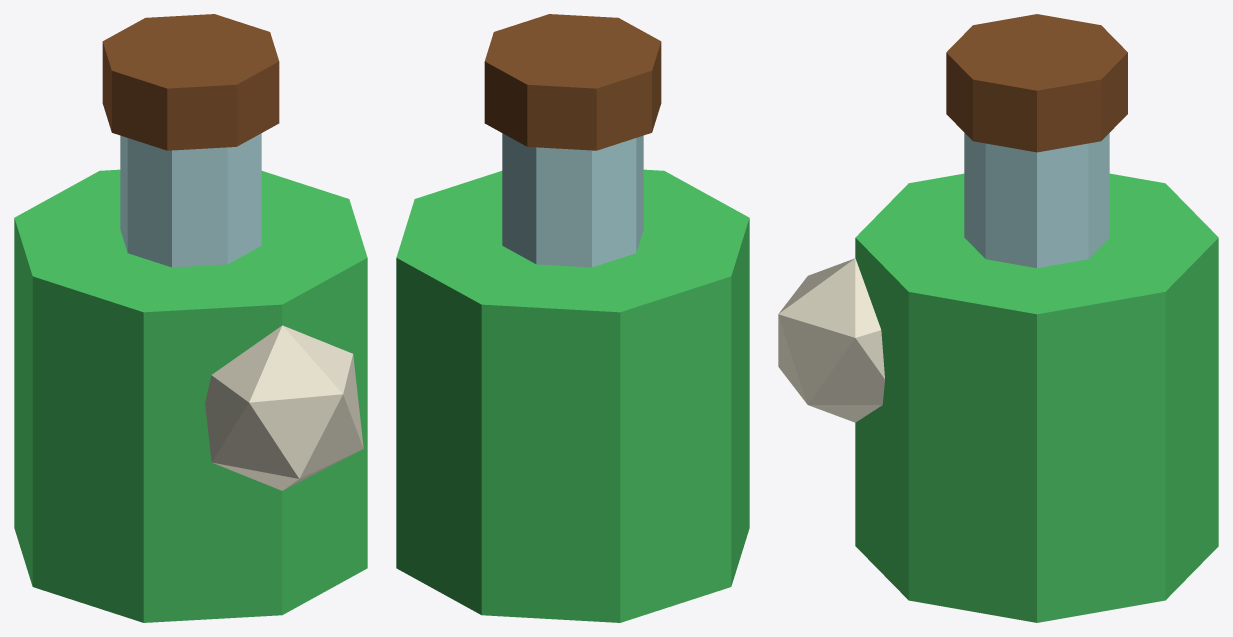
File: poison_skull_bottle.glb
3 views of the same model, side by side, from view 1: azimuth 30°, elevation 25°; view 2: azimuth 150°, elevation 25°; view 3: azimuth 270°, elevation 25° (orthographic).
Parts seen in each view (by area): view 1: poison_skull_bottle; view 2: poison_skull_bottle; view 3: poison_skull_bottle.
Boxes of the visible parts, left/top/right/bottom form: poison_skull_bottle: left=14, top=14, right=367, bottom=622; poison_skull_bottle: left=396, top=14, right=749, bottom=622; poison_skull_bottle: left=778, top=14, right=1218, bottom=622.
Size of the model in its own units: 0.32 by 0.48 by 0.3881.
